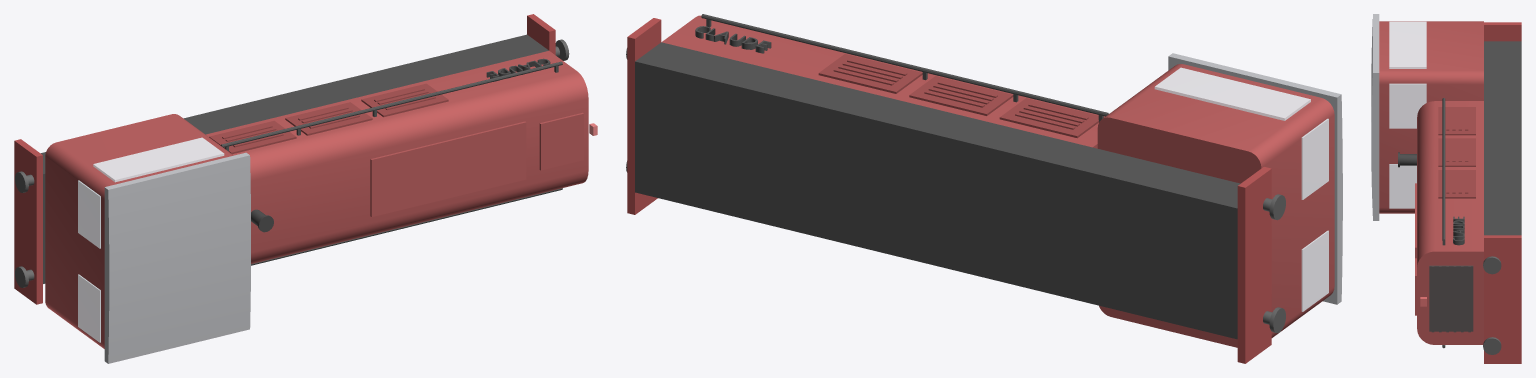
File: asset44.glb
3 renders of one model, left to right at view 1: azimuth 30°, elevation 25°; view 2: azimuth 150°, elevation 25°; view 3: azimuth 270°, elevation 25°, orthographic. The views are drawn at different scales.
Visible parts, largest first — view 1: asset44 (×9); view 2: asset44 (×9), text: CLAUDE14 (other side); view 3: asset44 (×11), text: CLAUDE14 (other side).
Part boxes in pixels (x1=…): asset44 (×9): x1=14, y1=14, x2=588, y2=363; asset44 (×9): x1=626, y1=14, x2=1342, y2=363; text: CLAUDE14 (other side): x1=695, y1=26, x2=771, y2=53; asset44 (×11): x1=1371, y1=14, x2=1521, y2=363; text: CLAUDE14 (other side): x1=1453, y1=216, x2=1464, y2=245.
Size of what is drawn, in the model's own units: 1 by 0.306 by 0.2815.
